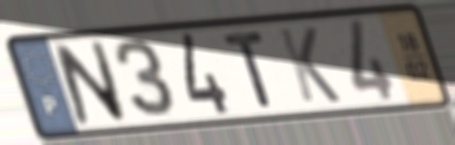3: (113, 38, 178, 121)
4: (347, 14, 398, 106), (181, 30, 231, 118)
K: (275, 25, 345, 105)
N: (50, 38, 131, 128)
T: (220, 29, 277, 110)
